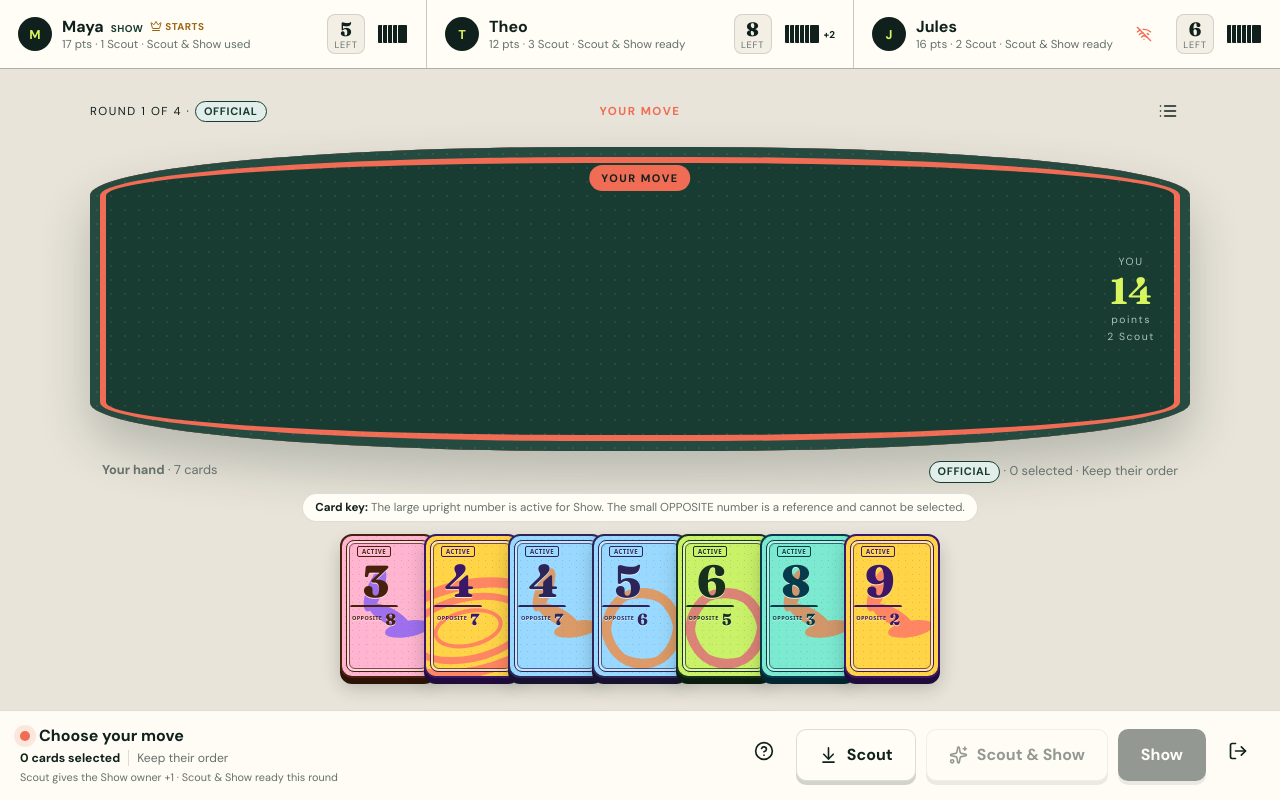
Scenario: GameScreen experience polish › explains locked active values in first-round and contextual help
The width and height of the screenshot is (1280, 800).
Check: the text "small OPPOSITE number is a reference and cannot be selected" is shown, box [371,500,965,514]
Click the button named "Show contextual help".
click(764, 750)  # box [742,728,786,772]
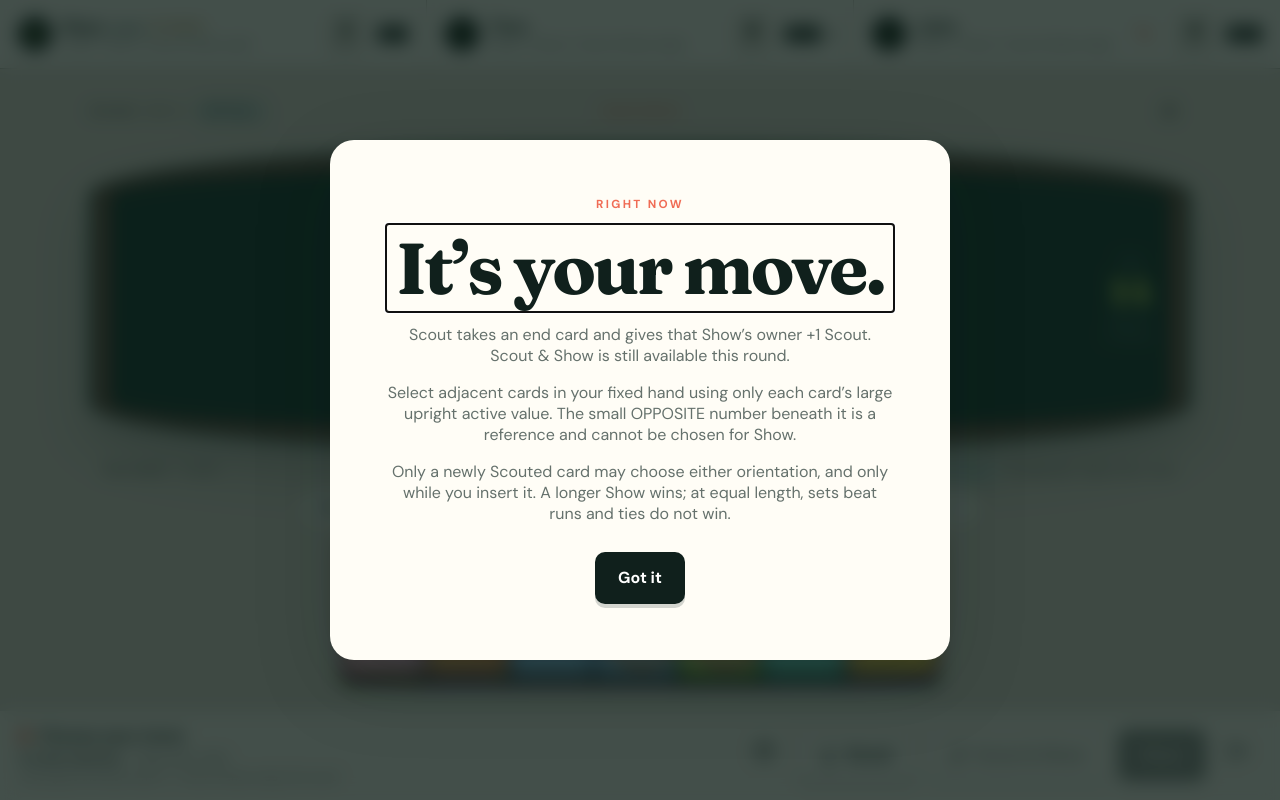
Check: the dialog "It’s your move." shows "cannot be chosen for Show", box [484,403,876,445]
Check: the dialog "It’s your move." shows "newly Scouted card may choose either orientation", box [392,461,888,524]
